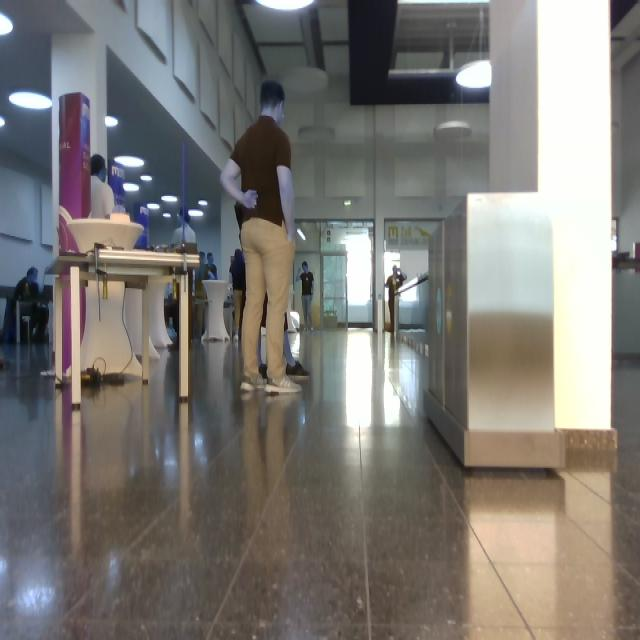door: (295, 221, 372, 325)
light bulb: (457, 58, 492, 89), (435, 121, 472, 141), (10, 92, 51, 109), (256, 1, 315, 10), (115, 156, 145, 168), (1, 13, 13, 36), (124, 184, 140, 193), (189, 209, 204, 217), (108, 116, 118, 128), (299, 228, 306, 241), (162, 196, 177, 202), (149, 204, 159, 210), (142, 176, 152, 182), (199, 200, 207, 206), (164, 213, 171, 218)
person: (221, 81, 299, 393), (1, 268, 50, 341), (300, 262, 314, 329)
pillar: (491, 1, 618, 469), (52, 34, 107, 226)
table: (46, 246, 199, 405), (81, 278, 140, 377), (59, 208, 143, 256)
tiled floor: (1, 330, 640, 640)
